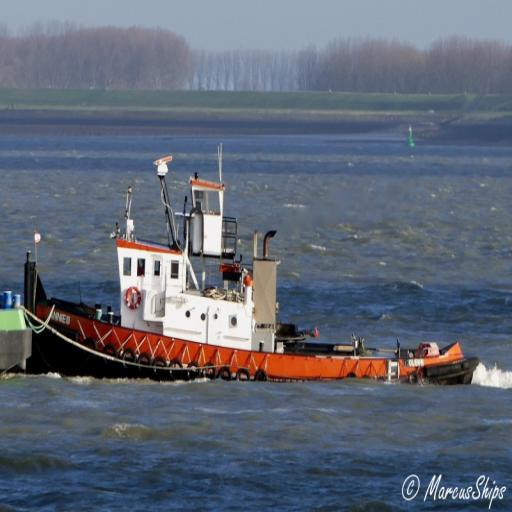tugboat: (22, 152, 483, 392)
